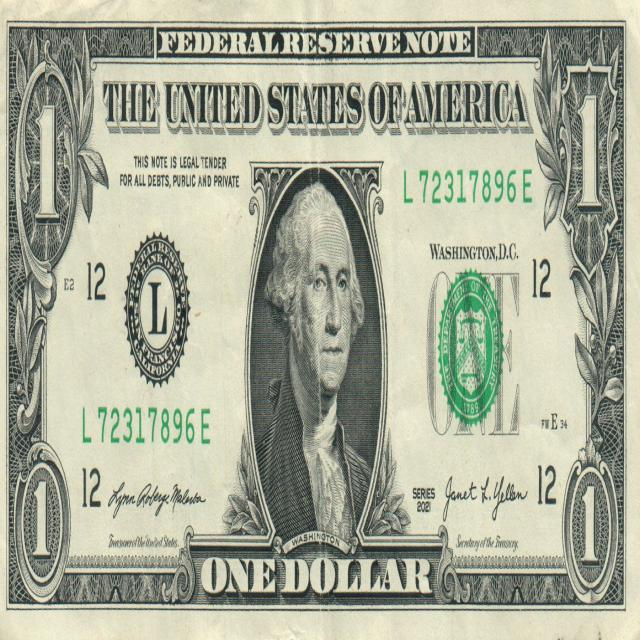SerialNumber: (98, 407, 210, 444), (419, 169, 531, 204)
